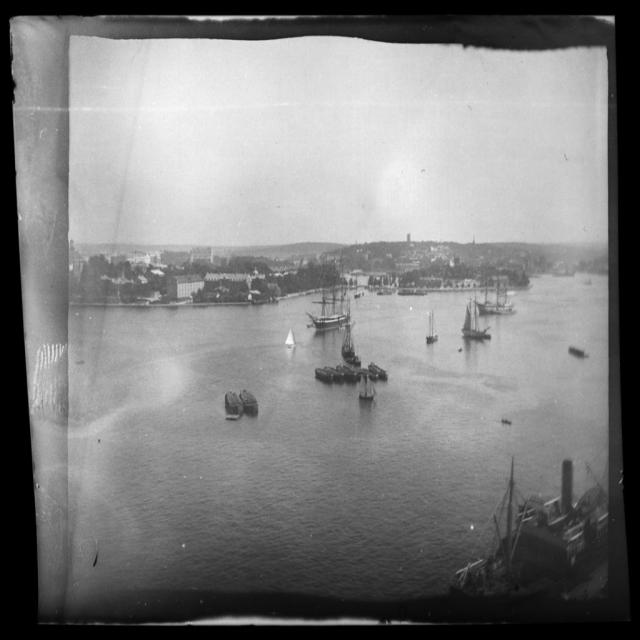Boat: (458, 456, 585, 616), (308, 278, 352, 332), (316, 361, 390, 386), (464, 299, 492, 341), (226, 389, 242, 416), (242, 392, 258, 418), (359, 375, 373, 400), (428, 312, 439, 343)
